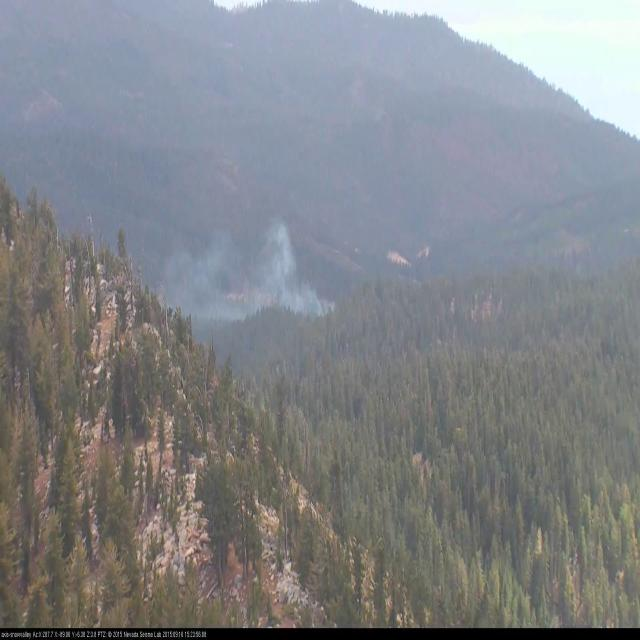smoke: (173, 223, 350, 325)
